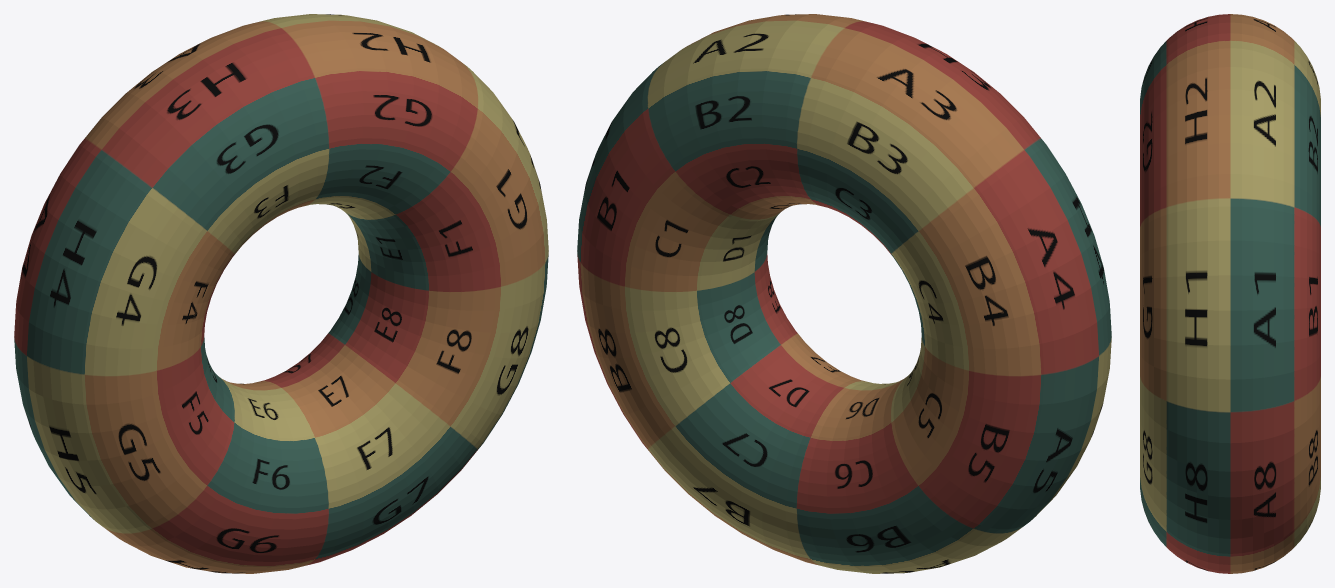
The model's file is texture_torus_R8_r20.glb.
3 views of the same model, side by side, from view 1: azimuth 30°, elevation 25°; view 2: azimuth 150°, elevation 25°; view 3: azimuth 270°, elevation 25° (orthographic). The views are drawn at different scales.
Visible parts, largest first — view 1: world; view 2: world; view 3: world.
Boxes of the visible parts, x1,y1,x2,y2 form: world: [14, 14, 548, 573]; world: [577, 14, 1111, 573]; world: [1140, 14, 1320, 573].
Bounding box in the file's own units: 22.67 × 22.62 × 7.32.
Materials: 1 (1 with a texture image).
